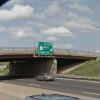Bridge: (2, 38, 89, 67)
